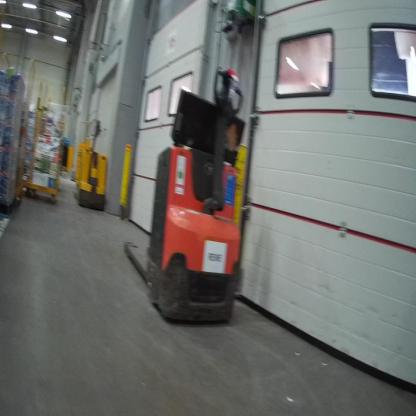pallet_truck: (122, 52, 256, 334), (67, 111, 111, 213)
